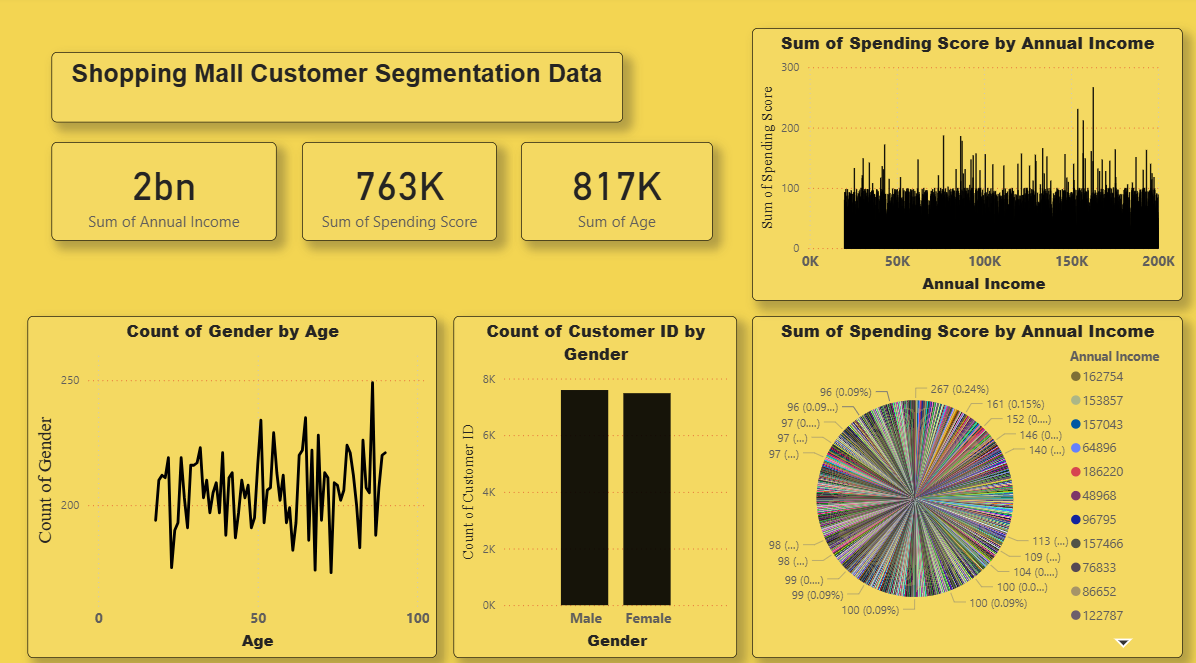

Layout of this report page (visuals, bound fields, positions):
{"tool":"powerbi","page":{"name":"Page 1","canvas":[1280,720],"ordinal":0},"visuals":[{"type":"clusteredColumnChart","fields":{"Category":["Shopping Mall Customer Segmentation Data.Annual Income"],"Y":["Sum(Shopping Mall Customer Segmentation Data.Spending Score)"]},"box":[804.8,35,456.5,289.5],"z":0},{"type":"pieChart","fields":{"Category":["Shopping Mall Customer Segmentation Data.Annual Income"],"Y":["Sum(Shopping Mall Customer Segmentation Data.Spending Score)"]},"box":[804.8,340.4,456.5,362.7],"z":1},{"type":"columnChart","fields":{"Category":["Shopping Mall Customer Segmentation Data.Gender"],"Y":["CountNonNull(Shopping Mall Customer Segmentation Data.Customer ID)"]},"box":[488.3,340.4,300.6,362.7],"z":2},{"type":"textbox","box":[62,60.4,606,74.8],"z":3},{"type":"card","fields":{"Values":["Sum(Shopping Mall Customer Segmentation Data.Spending Score)"]},"box":[327.7,155.9,206.8,105],"z":4},{"type":"card","fields":{"Values":["Sum(Shopping Mall Customer Segmentation Data.Annual Income)"]},"box":[62,155.9,238.6,105],"z":5},{"type":"lineChart","fields":{"Category":["Shopping Mall Customer Segmentation Data.Age"],"Y":["CountNonNull(Shopping Mall Customer Segmentation Data.Gender)"]},"box":[36.6,340.4,434.2,362.7],"z":6},{"type":"card","fields":{"Values":["Sum(Shopping Mall Customer Segmentation Data.Age)"]},"box":[559.9,155.9,203.6,105],"z":7}]}

Visuals, with their boxes in screenshot pixels (x1, y1, x2, y2), scaled from the page's 1280x720 canvas onto the 1196x663 screenshot:
clusteredColumnChart - Shopping Mall Customer Segmentation Data.Annual Income x Sum(Shopping Mall Customer Segmentation Data.Spending Score): (752, 32, 1179, 299)
pieChart - Shopping Mall Customer Segmentation Data.Annual Income x Sum(Shopping Mall Customer Segmentation Data.Spending Score): (752, 313, 1179, 647)
columnChart - Shopping Mall Customer Segmentation Data.Gender x CountNonNull(Shopping Mall Customer Segmentation Data.Customer ID): (456, 313, 737, 647)
textbox: (58, 56, 624, 124)
card - Sum(Shopping Mall Customer Segmentation Data.Spending Score): (306, 144, 499, 240)
card - Sum(Shopping Mall Customer Segmentation Data.Annual Income): (58, 144, 281, 240)
lineChart - Shopping Mall Customer Segmentation Data.Age x CountNonNull(Shopping Mall Customer Segmentation Data.Gender): (34, 313, 440, 647)
card - Sum(Shopping Mall Customer Segmentation Data.Age): (523, 144, 713, 240)
